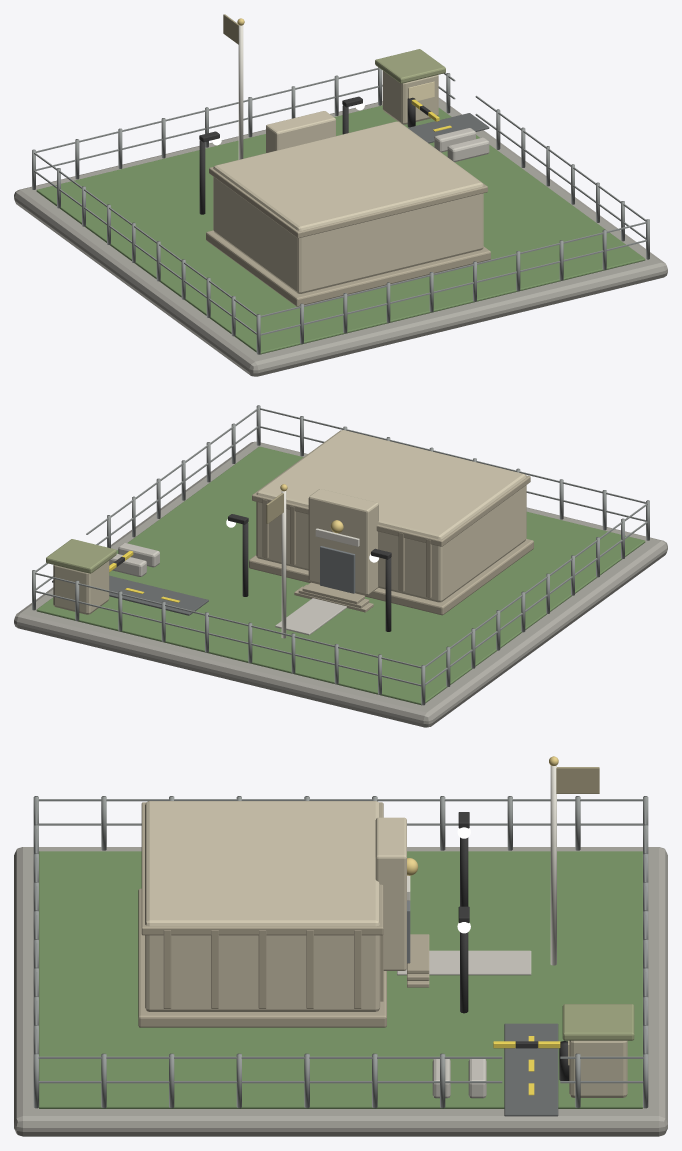
Rendered from goldvault_5.glb.
3 views of the same model, one above another, from view 1: azimuth 30°, elevation 25°; view 2: azimuth 150°, elevation 25°; view 3: azimuth 270°, elevation 25° (orthographic). The views are drawn at different scales.
Visible parts, largest first — view 1: Cube.001, Cube.016, Cube, Cube.015, Cube.029, Cube.030, Cube.006, Cube.007, Cube.002, Cube.038, Cube.043, Cylinder.001 (+6 smaller); view 2: Cube.001, Cube.016, Cube, Cube.030, Cube.015, Cube.006, Cube.002, Cube.007, Cube.029, Cube.031, Cube.014, Cube.037 (+11 smaller); view 3: Cube.001, Cube.016, Cube, Cube.015, Cube.002, Cube.030, Cube.006, Cube.029, Cube.007, Cube.014, Cube.044, Cylinder.001 (+15 smaller).
Part boxes in pixels (x1,y1,x2,y2): Cube.001: [36, 105, 645, 354]; Cube.016: [213, 121, 483, 293]; Cube: [14, 97, 667, 376]; Cube.015: [206, 230, 490, 306]; Cube.029: [209, 122, 487, 238]; Cube.030: [266, 111, 335, 152]; Cube.006: [382, 71, 438, 124]; Cube.007: [375, 49, 445, 83]; Cube.002: [408, 113, 489, 143]; Cube.038: [260, 240, 646, 335]; Cube.043: [260, 222, 646, 317]; Cylinder.001: [238, 25, 243, 159]; Cube.001: [36, 446, 645, 705]; Cube.016: [256, 430, 526, 602]; Cube: [14, 441, 667, 727]; Cube.030: [308, 489, 378, 594]; Cube.015: [249, 539, 533, 615]; Cube.006: [53, 560, 109, 614]; Cube.002: [52, 575, 208, 615]; Cube.007: [46, 539, 116, 573]; Cube.029: [252, 430, 530, 546]; Cube.031: [320, 546, 355, 593]; Cube.014: [275, 598, 346, 635]; Cube.037: [35, 590, 421, 686]; Cube.001: [38, 851, 643, 1108]; Cube.016: [145, 801, 380, 1011]; Cube: [14, 847, 667, 1136]; Cube.015: [138, 888, 386, 1027]; Cube.002: [504, 1023, 558, 1116]; Cube.030: [375, 817, 406, 970]; Cube.006: [569, 1040, 627, 1097]; Cube.029: [141, 802, 383, 935]; Cube.007: [562, 1004, 634, 1040]; Cube.014: [397, 950, 531, 975]; Cube.044: [38, 799, 643, 801]; Cylinder.001: [550, 765, 556, 965].
Bounding box in the file's own units: 2.92 × 1.14 × 2.92.
